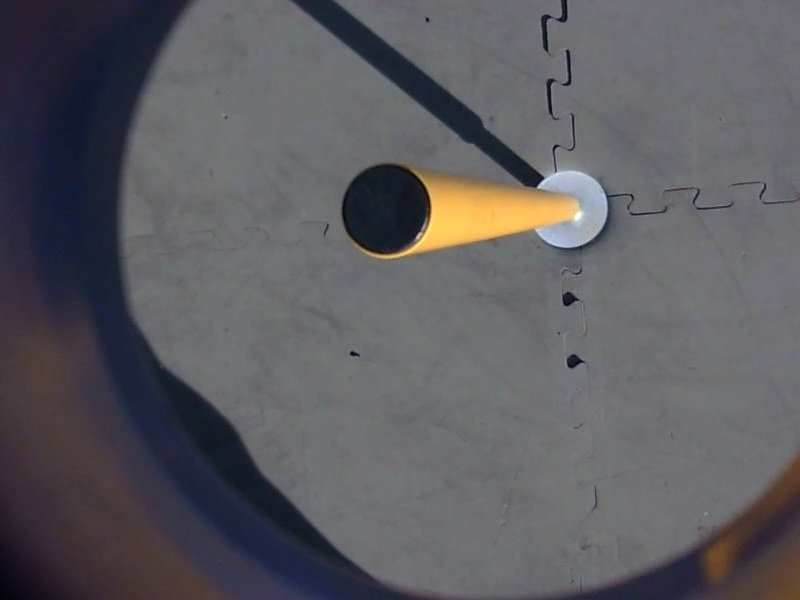tip: (334, 159, 440, 264)
